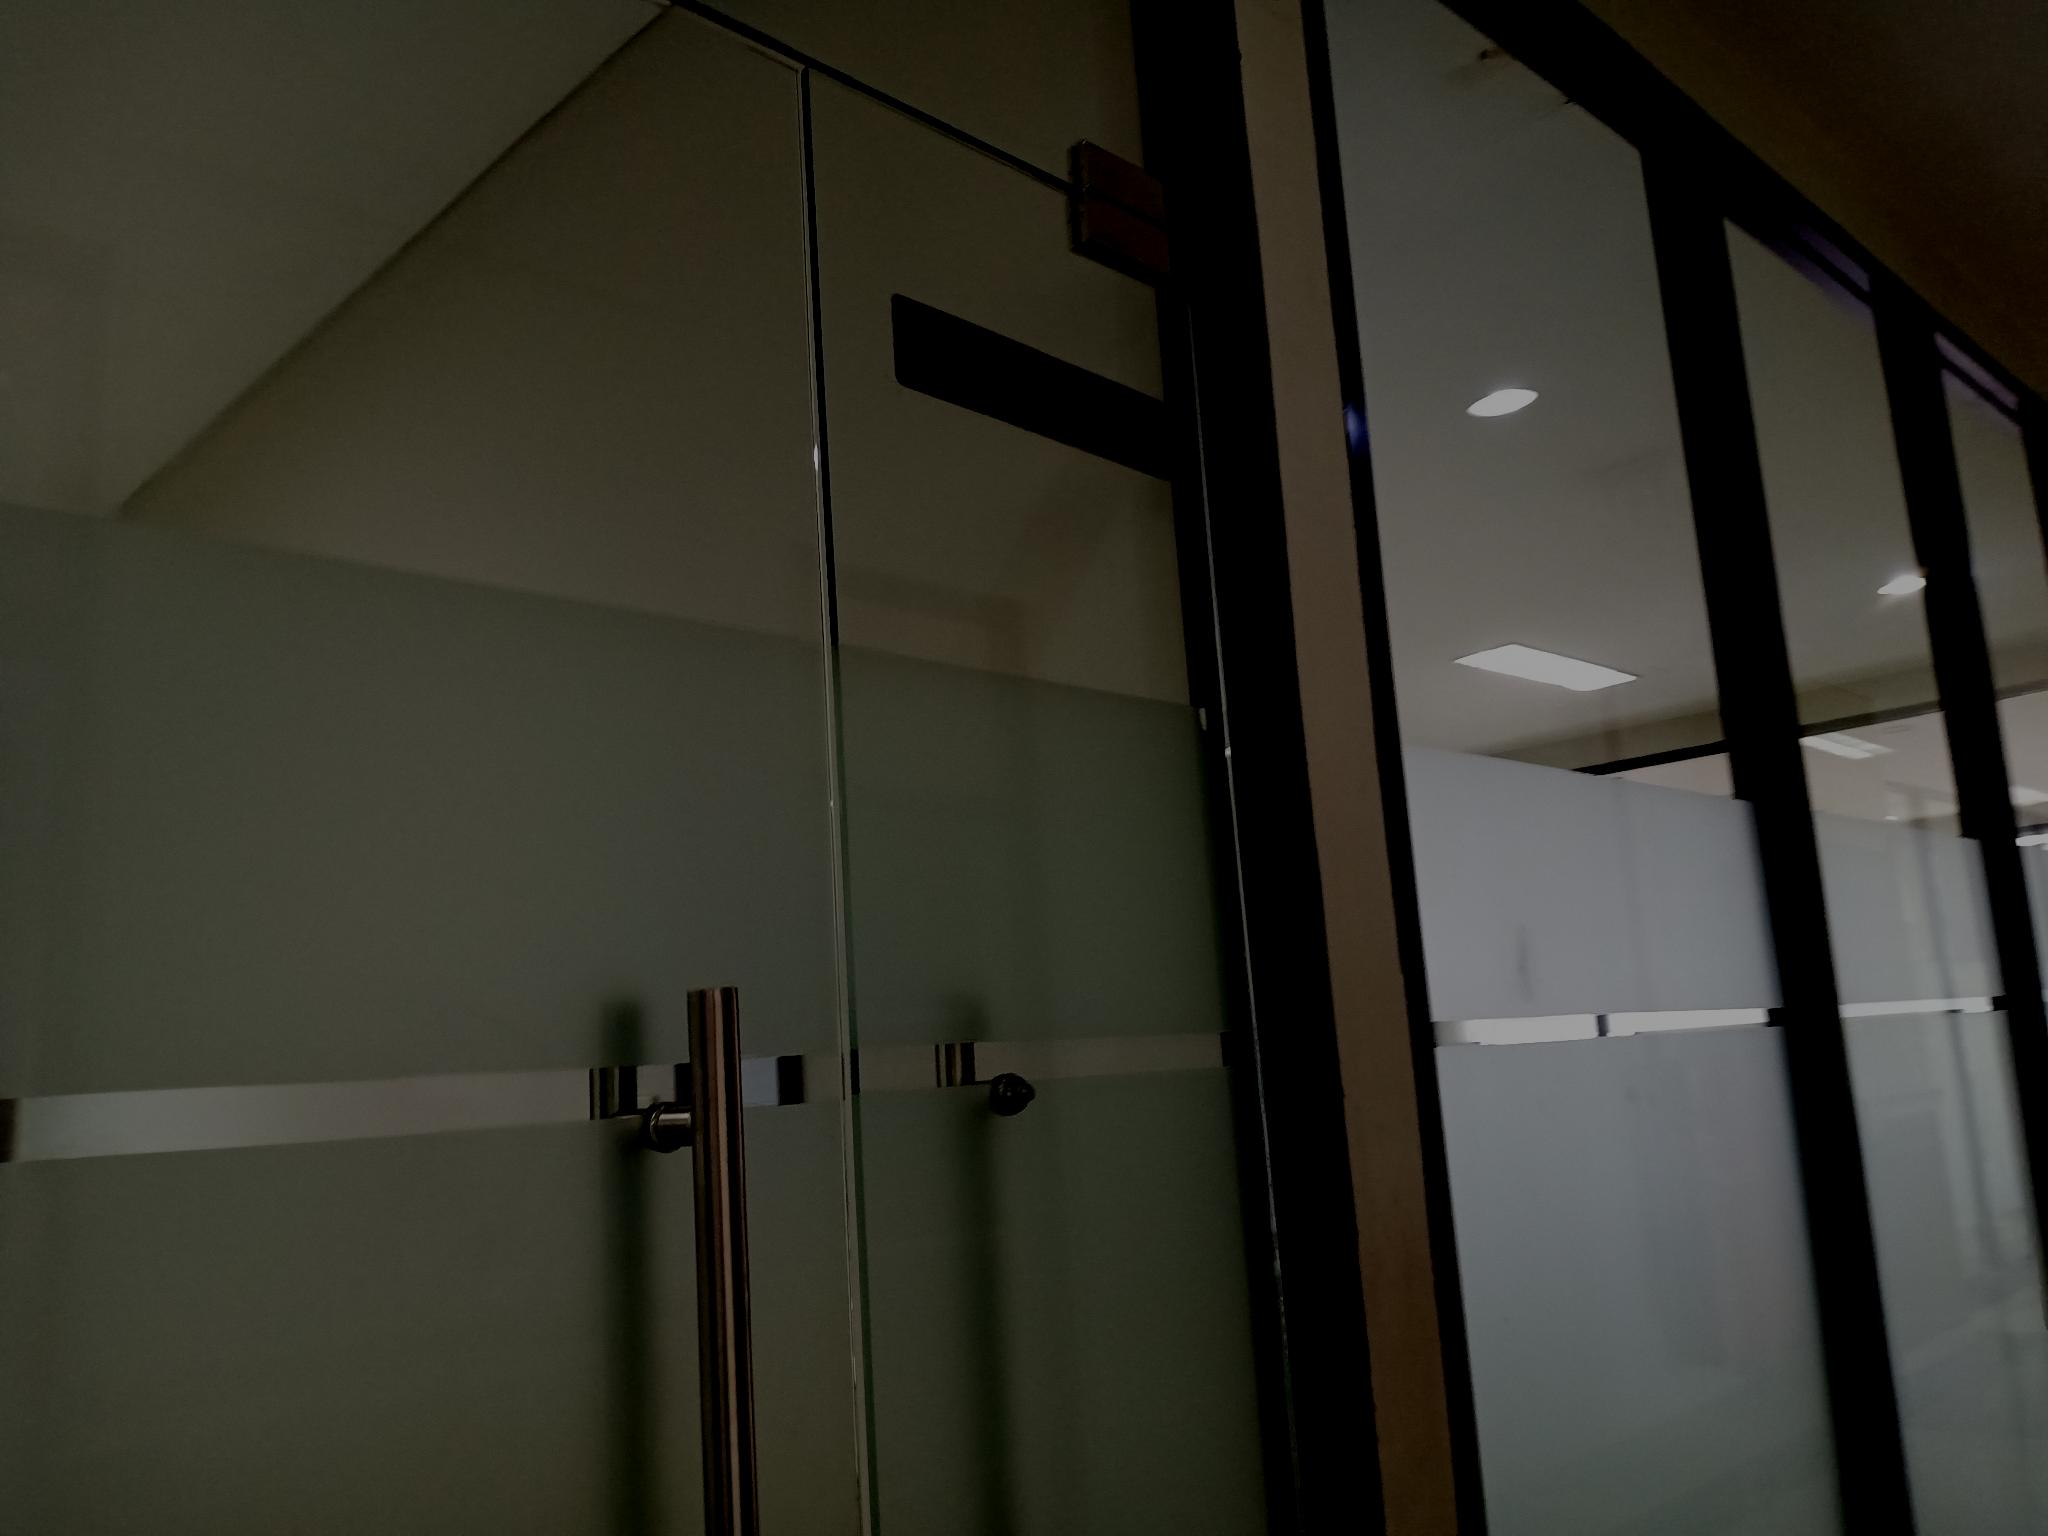plate: (890, 289, 1172, 482)
